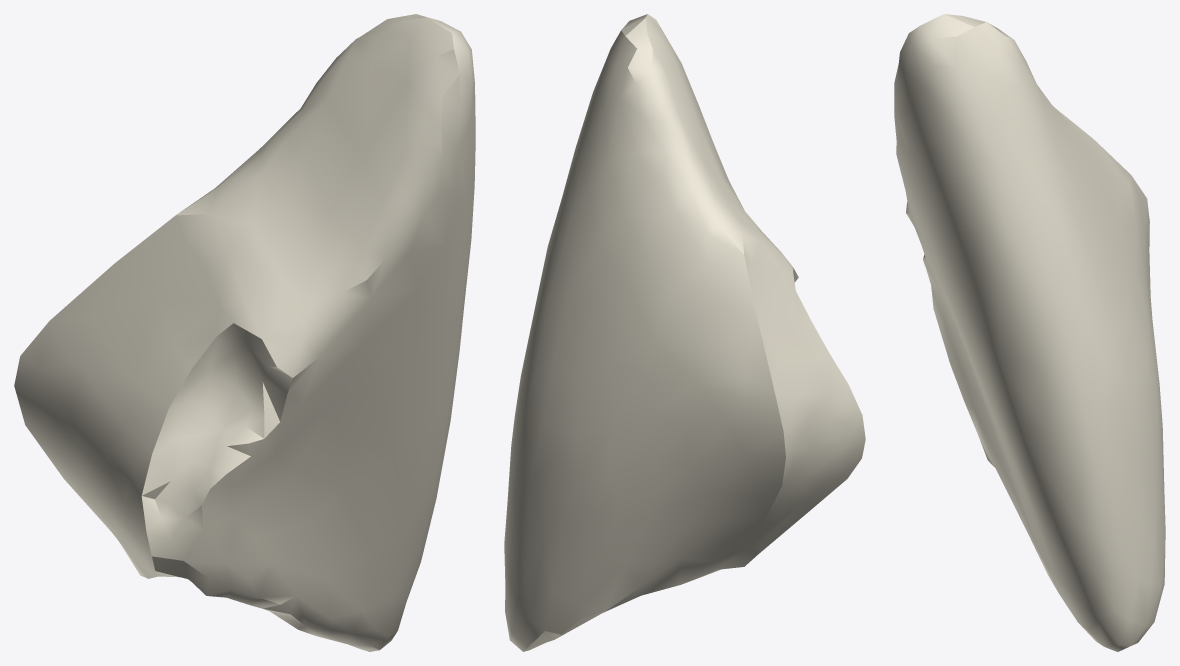
Rendered from fma23808_mm1525m.glb.
The picture shows the model from 3 angles, left to right: view 1: azimuth 30°, elevation 25°; view 2: azimuth 150°, elevation 25°; view 3: azimuth 270°, elevation 25°; orthographic projection. The views are drawn at different scales.
Visible parts, largest first — view 1: FMA23808_MM1525M; view 2: FMA23808_MM1525M; view 3: FMA23808_MM1525M.
Boxes of the visible parts, bbox=[...] form: FMA23808_MM1525M: bbox=[14, 14, 475, 651]; FMA23808_MM1525M: bbox=[504, 14, 865, 651]; FMA23808_MM1525M: bbox=[894, 14, 1165, 651].
Size of the model in its own units: 0.0111 by 0.0201 by 0.00798.
